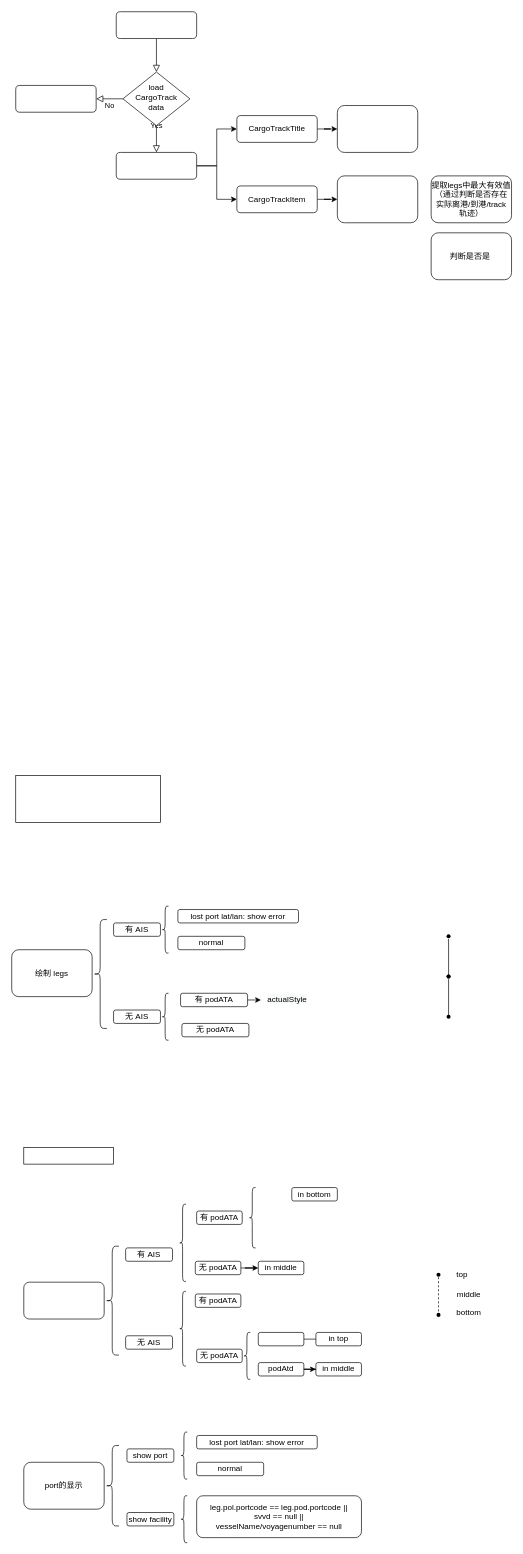
Some shapes in this 523 by 1554 pixel diagram are drawn without their labels. The centre of each missing label's shape, as x and y in pixels:
container的位置: the point at 63,1300
Get bkg&trackType from routelink: the point at 156,25
Get the routeSeqNumber to display the route title & 20GP * 1: the point at 377,128
handle each route's legInfos: the point at 377,199
pass the routes data to the CargoTrackInfo: the point at 156,165
podEtd: the point at 281,1339
popup error/warning message: the point at 55,98
unActiveStyle 灰色实线 actualStyle 蓝色实线 planStyle 蓝色虚线 unplanStyle 灰色虚线: the point at 87,798
有 ais：track.length > 0: the point at 68,1155
